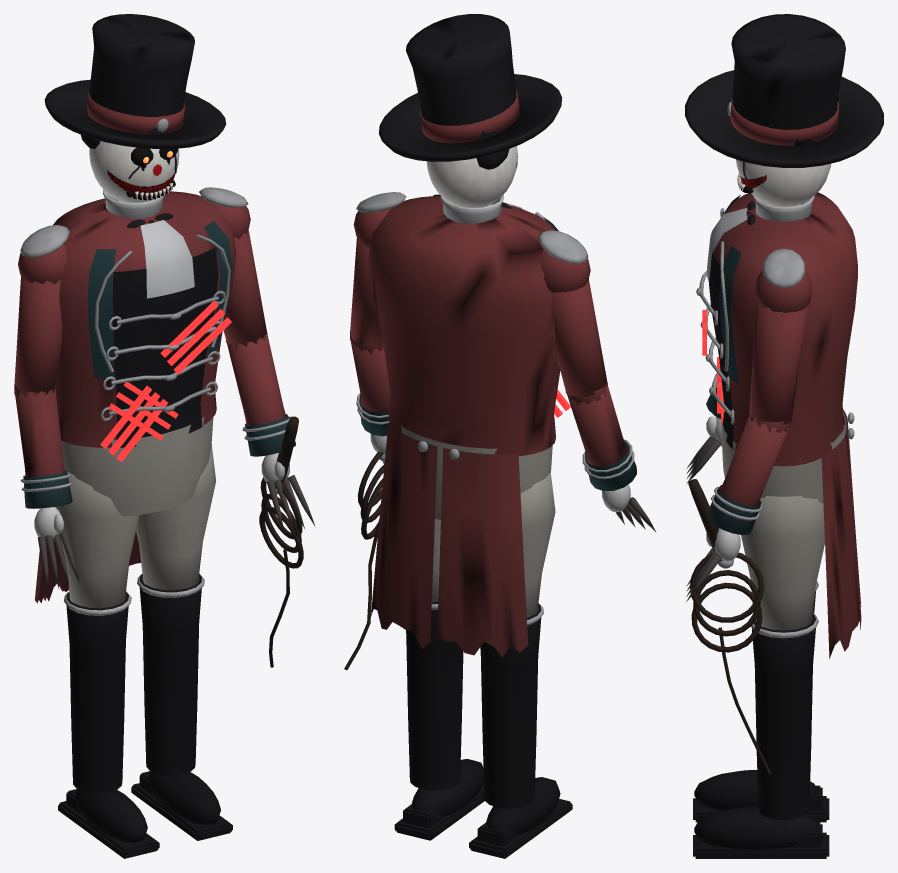
The model's file is last_ringmaster.glb.
The picture shows the model from 3 angles, left to right: view 1: azimuth 30°, elevation 25°; view 2: azimuth 150°, elevation 25°; view 3: azimuth 270°, elevation 25°; orthographic projection. The views are drawn at different scales.
Visible parts, largest first — view 1: Coat, HatPivot_HatSilk, LegA_BootGloss, LegB_BootGloss, Ringmaster_Root_BlackSatin, ArmA_MothCrimson, Hips, ArmB_MothCrimson, JodLegA, JodLegB, Ringmaster_Root_Shirt, Ringmaster_Root_HWound (+14 smaller); view 2: Coat, Tail_MothCrimson, HatPivot_HatSilk, LegA_BootGloss, LegB_BootGloss, ArmA_MothCrimson, ArmB_MothCrimson, Head_PaintedFace, JodLegA, Hips, ArmB_WhipLeather, HatBand (+4 smaller); view 3: HatPivot_HatSilk, Coat, LegB_BootGloss, ArmB_MothCrimson, JodLegB, Tail_MothCrimson, ArmB_WhipLeather, LegA_BootGloss, Head_PaintedFace, Hips, ArmB_SilverBraid, HatBand (+10 smaller).
Part boxes in pixels (box(x1,y1,x2,y2)): Coat: box(53, 191, 236, 447); HatPivot_HatSilk: box(44, 14, 226, 148); LegA_BootGloss: box(58, 592, 159, 858); LegB_BootGloss: box(131, 574, 232, 840); Ringmaster_Root_BlackSatin: box(112, 213, 218, 447); ArmA_MothCrimson: box(14, 244, 66, 477); Hips: box(61, 416, 213, 516); ArmB_MothCrimson: box(213, 203, 285, 425); JodLegA: box(55, 471, 139, 608); JodLegB: box(136, 445, 215, 590); Ringmaster_Root_Shirt: box(103, 189, 194, 298); Ringmaster_Root_HWound: box(100, 301, 231, 462); Coat: box(368, 196, 560, 455); Tail_MothCrimson: box(371, 422, 528, 657); HatPivot_HatSilk: box(379, 14, 562, 161); LegA_BootGloss: box(469, 603, 572, 858); LegB_BootGloss: box(394, 602, 484, 840); ArmA_MothCrimson: box(541, 249, 627, 466); ArmB_MothCrimson: box(350, 208, 391, 412); Head_PaintedFace: box(426, 146, 518, 207); JodLegA: box(520, 472, 555, 617); Hips: box(400, 425, 552, 519); ArmB_WhipLeather: box(344, 451, 384, 670); HatBand: box(419, 91, 520, 143); HatPivot_HatSilk: box(685, 14, 883, 167); Coat: box(713, 192, 857, 466); LegB_BootGloss: box(693, 613, 829, 858); ArmB_MothCrimson: box(720, 270, 812, 506); JodLegB: box(741, 496, 824, 630); Tail_MothCrimson: box(821, 410, 861, 658); ArmB_WhipLeather: box(688, 479, 771, 774); LegA_BootGloss: box(693, 591, 829, 822); Head_PaintedFace: box(736, 159, 831, 206); Hips: box(721, 408, 846, 503); ArmB_SilverBraid: box(710, 248, 805, 568); HatBand: box(730, 97, 838, 145).
Size of the model in its own units: 0.6927 by 1.95 by 0.437.
Materials: 18 (1 with a texture image).
